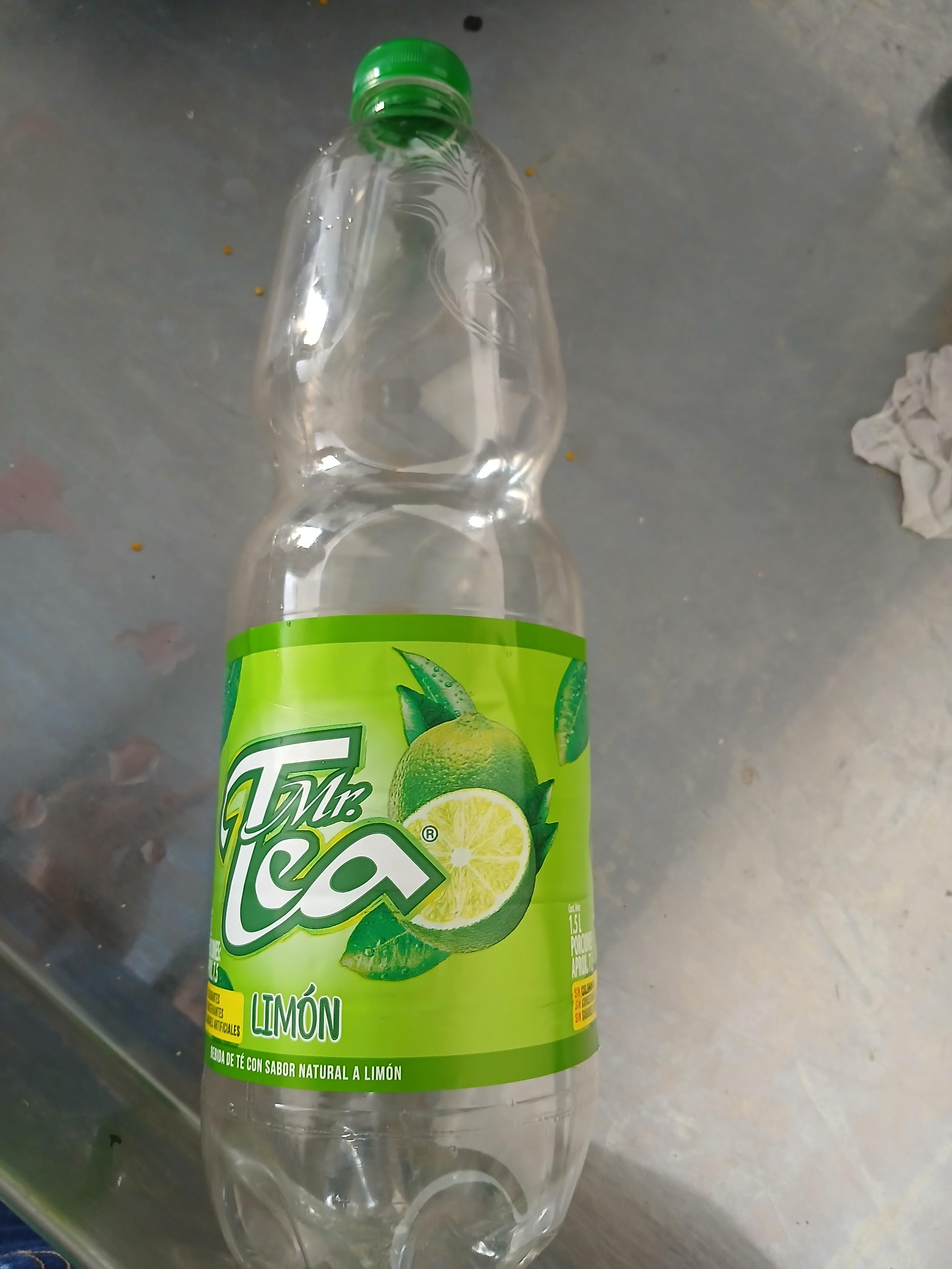Plastico: (204, 42, 595, 1269)
